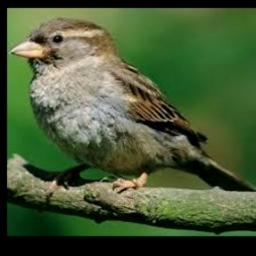Sparrow: (9, 18, 256, 197)
